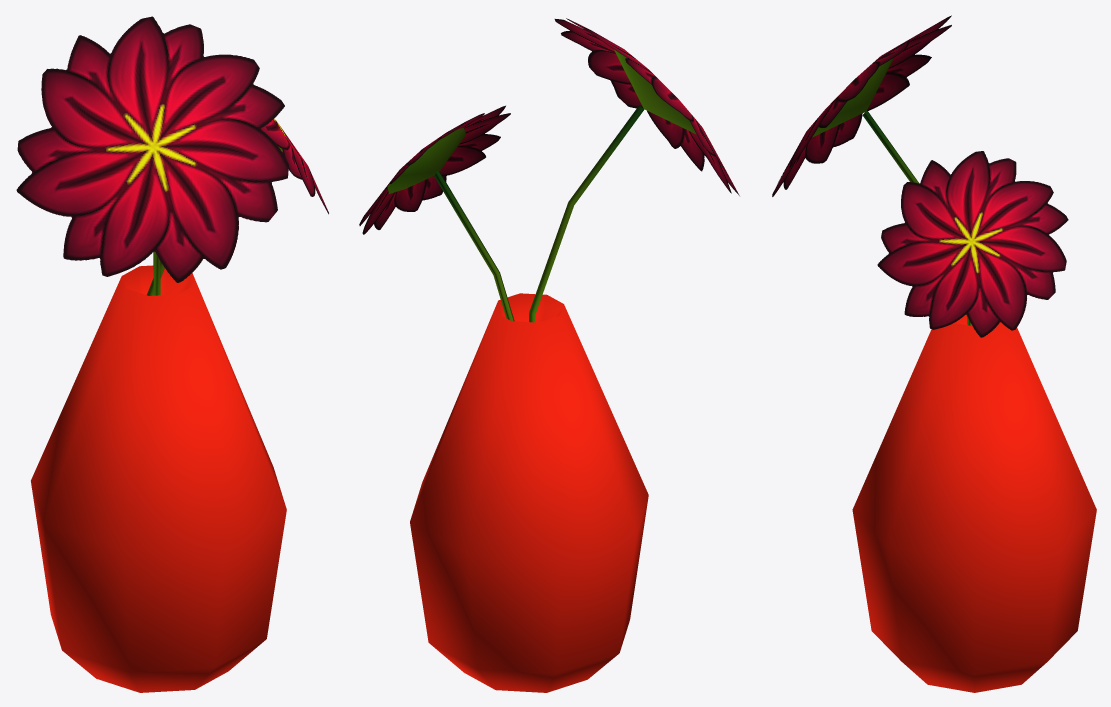
Rendered from Flowers_A_2.FBX.
3 views of the same model, side by side, from view 1: azimuth 30°, elevation 25°; view 2: azimuth 150°, elevation 25°; view 3: azimuth 270°, elevation 25° (orthographic). The views are drawn at different scales.
Parts seen in each view (by area): view 1: Vase_And_Flowers; view 2: Vase_And_Flowers; view 3: Vase_And_Flowers.
Boxes of the visible parts, bbox=[...] form: Vase_And_Flowers: bbox=[16, 16, 328, 692]; Vase_And_Flowers: bbox=[359, 18, 739, 692]; Vase_And_Flowers: bbox=[772, 15, 1096, 692].
Bounding box in the file's own units: 80.48 × 155 × 73.7.
